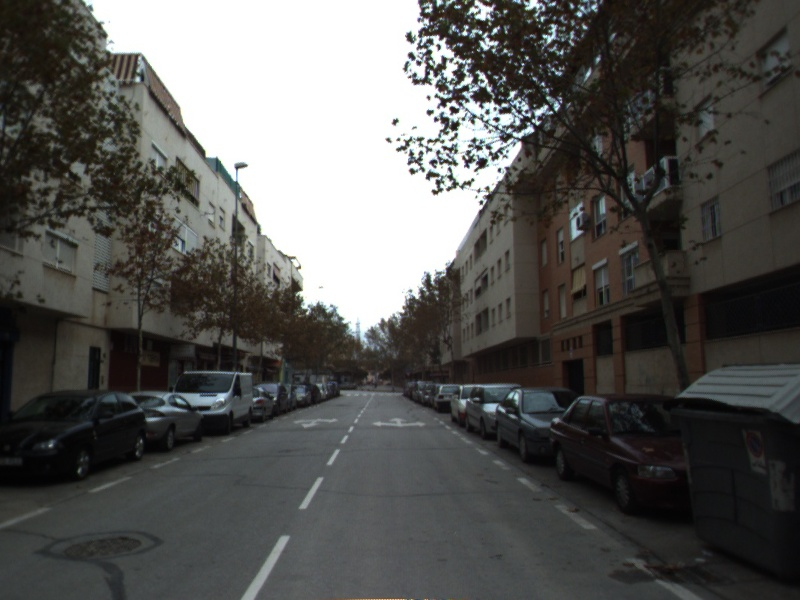STRAIGHT_LEFT_RIGHT: (371, 415, 428, 429)
